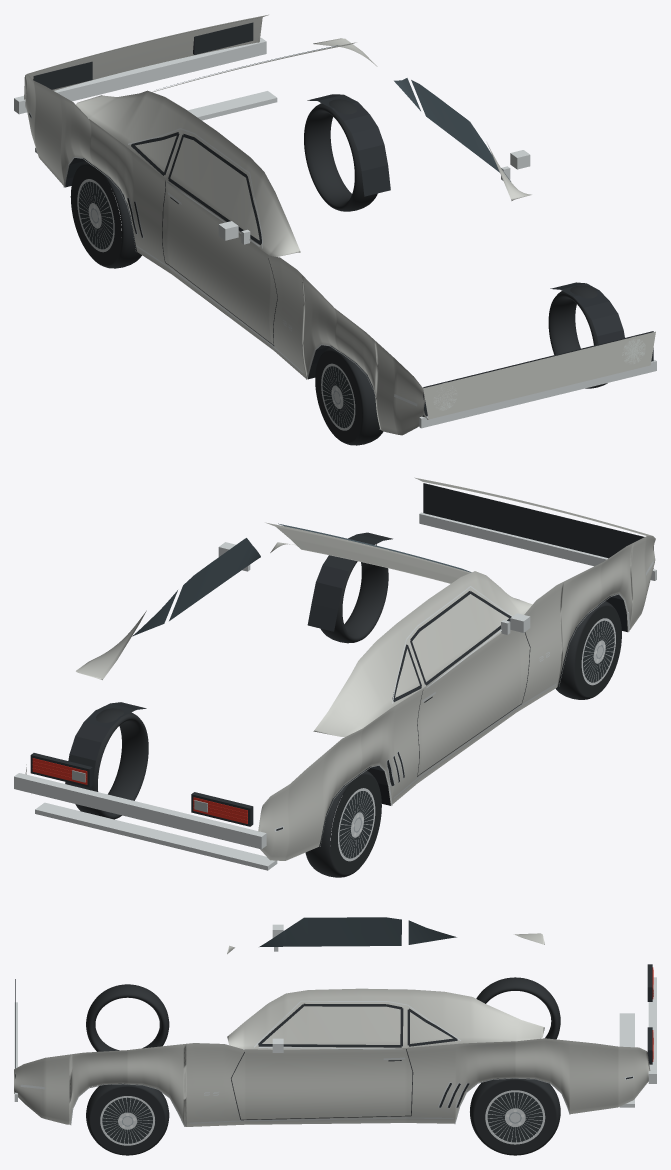
3 renders of one model, top to bottom at view 1: azimuth 30°, elevation 25°; view 2: azimuth 150°, elevation 25°; view 3: azimuth 270°, elevation 25°, orthographic. The views are drawn at different scales.
Visible parts, largest first — view 1: body, wheel_rl, wheel_fl, wheel_rr, wheel_fr; view 2: body, wheel_rl, wheel_fl, wheel_rr, wheel_fr; view 3: body, wheel_rr, wheel_fr, wheel_fl, wheel_rl.
Part boxes in pixels (x1,y1,x2,y2): body: (14, 14, 656, 435); wheel_rl: (70, 161, 141, 268); wheel_fl: (315, 346, 383, 445); wheel_rr: (304, 99, 377, 211); wheel_fr: (548, 285, 607, 388); body: (14, 477, 656, 870); wheel_rl: (305, 770, 381, 877); wheel_fl: (555, 600, 621, 699); wheel_rr: (75, 708, 148, 819); wheel_fr: (320, 540, 388, 643); body: (14, 917, 656, 1126); wheel_rr: (470, 1078, 560, 1155); wheel_fr: (86, 1083, 169, 1155); wheel_fl: (86, 984, 169, 1051); wheel_rl: (476, 977, 560, 1039).
Bounding box in the file's own units: 2.07 × 1.3 × 4.72.
